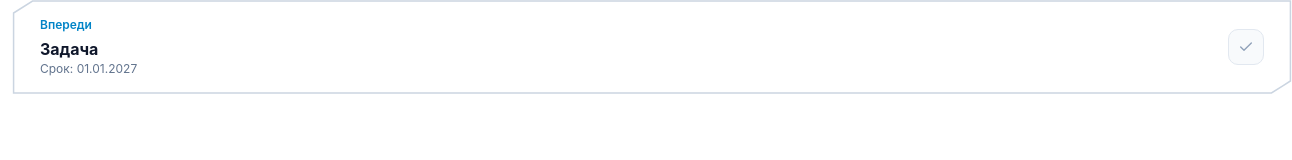
Test: explicit action confirmation › keeps the completion card retryable when the server fails
The width and height of the screenshot is (1292, 160).
Step 1. Click the button named "Завершить задачу" → (1246, 47), box [1228,29,1264,65]
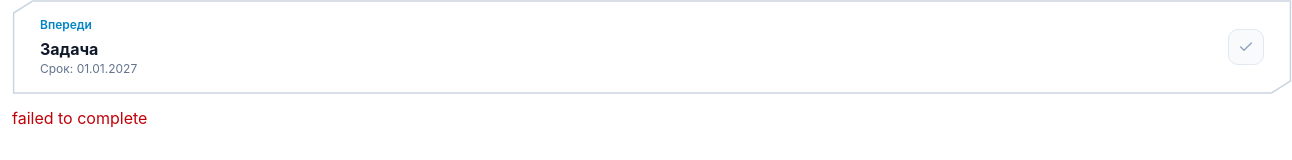
expect the text "Впереди" is shown: met, box [40,17,92,32]
expect the message reads "failed to complete": met, box [12,108,147,128]
